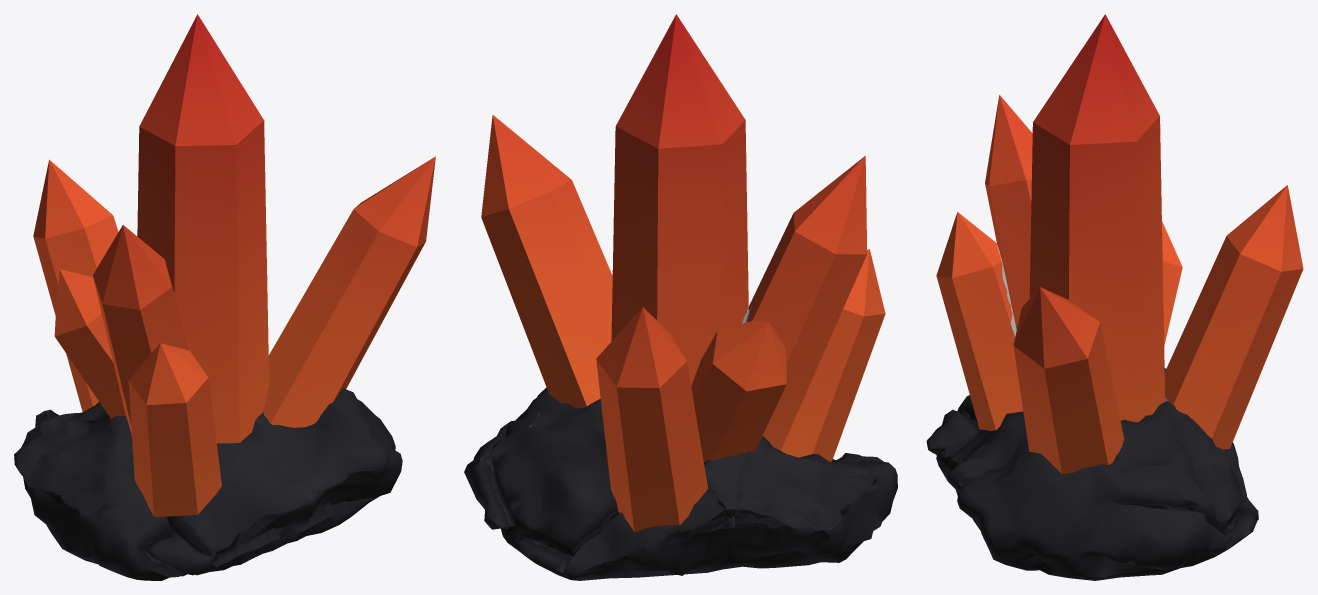
Rendered from cristal_plasma.fbx.
The picture shows the model from 3 angles, left to right: view 1: azimuth 30°, elevation 25°; view 2: azimuth 150°, elevation 25°; view 3: azimuth 270°, elevation 25°; orthographic projection. The views are drawn at different scales.
Visible parts, largest first — view 1: cristal_plasma_cristal, cristal_plasma; view 2: cristal_plasma_cristal, cristal_plasma; view 3: cristal_plasma_cristal, cristal_plasma.
Boxes of the visible parts, <box> form: cristal_plasma_cristal: <box>33,14,435,517</box>; cristal_plasma: <box>14,388,402,580</box>; cristal_plasma_cristal: <box>481,14,885,531</box>; cristal_plasma: <box>464,387,897,580</box>; cristal_plasma_cristal: <box>936,14,1303,474</box>; cristal_plasma: <box>926,368,1258,580</box>.
Bounding box in the file's own units: 2.69 × 3.45 × 2.36.
Materials: 3 (3 with a texture image).
